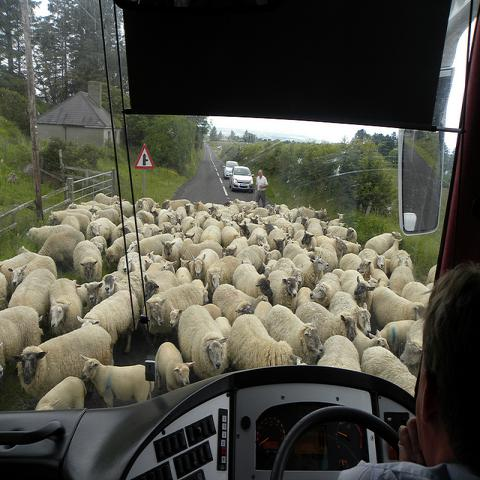car: (229, 166, 255, 192), (223, 160, 239, 179), (217, 146, 223, 150)
